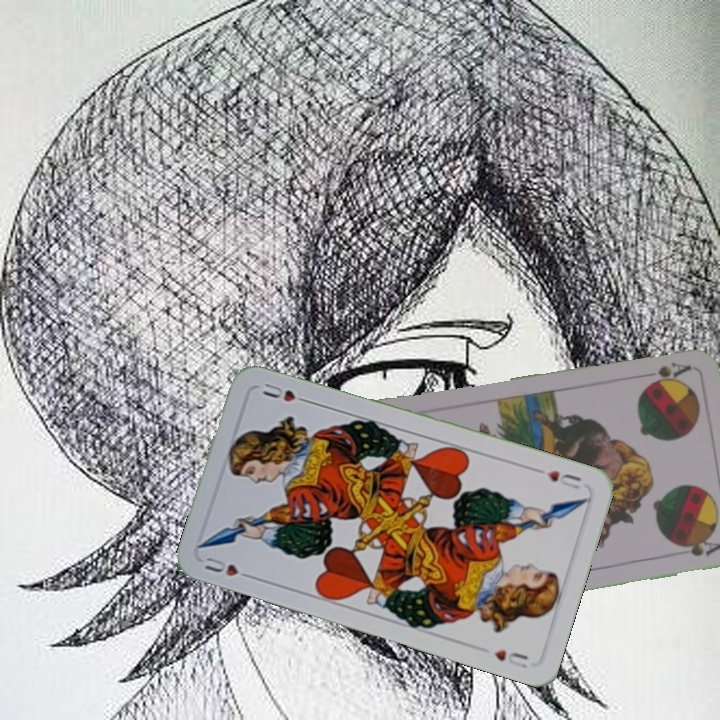HU: (200, 553, 257, 582), (542, 466, 584, 492)
SA: (634, 358, 693, 388)
